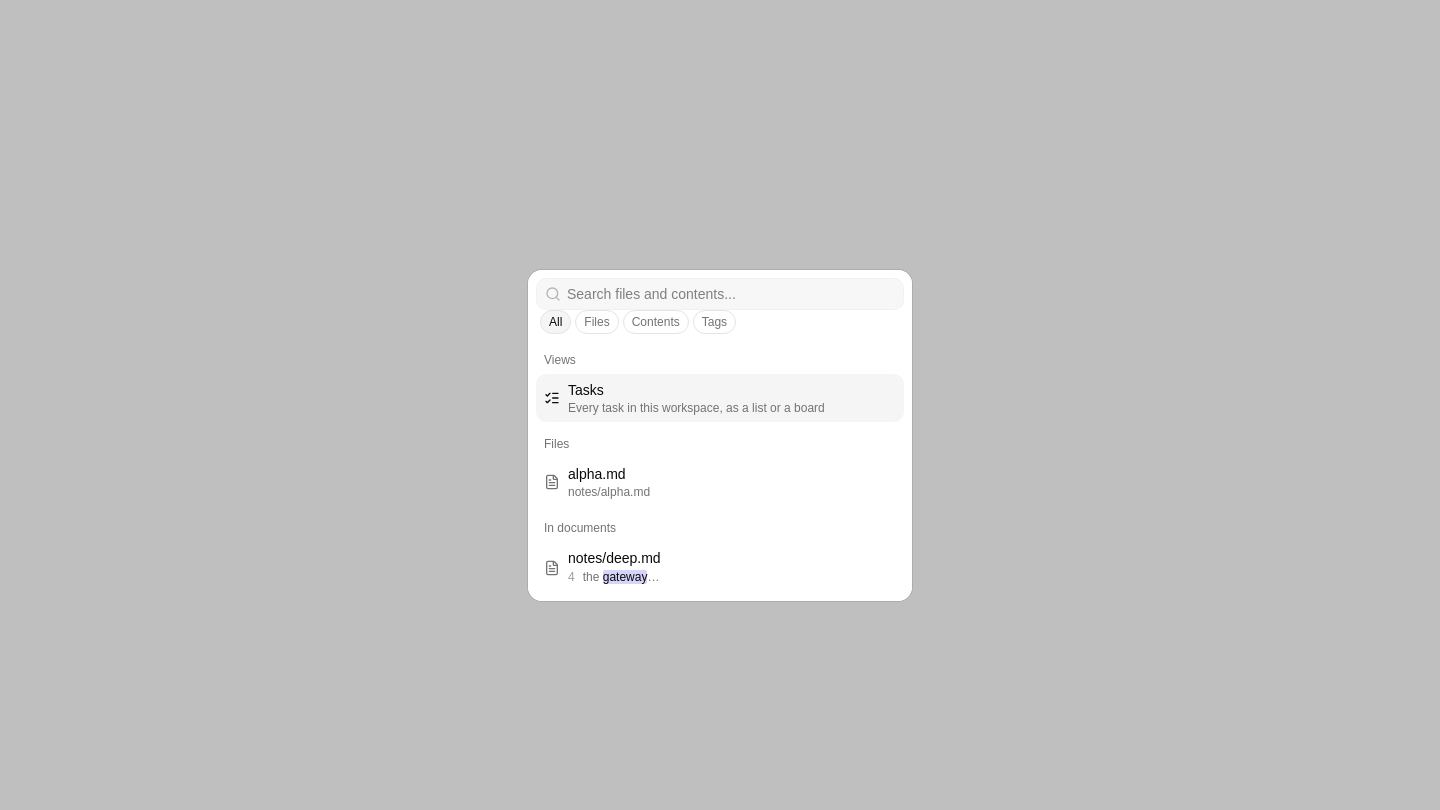
it: QuickOpenDialog › hides file matches when narrowed to contents
This screenshot has width=1440, height=810.
Expected: the text "alpha.md" is shown, [568,466,626,482]
Step 1. Click the button "Contents" → (656, 322), box [623,310,689,334]
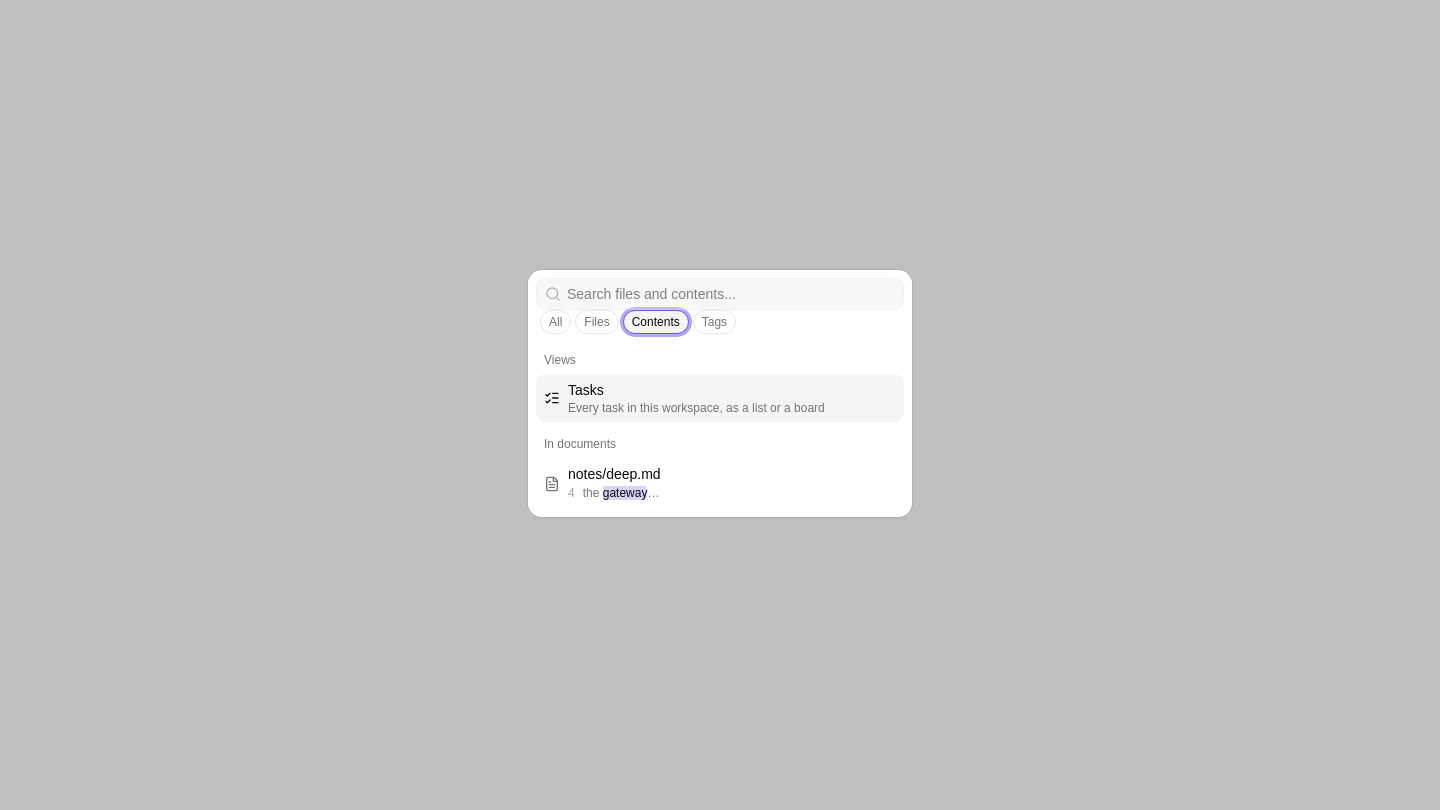
Expected: the text "notes/deep.md" is shown, [568,466,661,482]
Now the option "alpha.md" is gone
